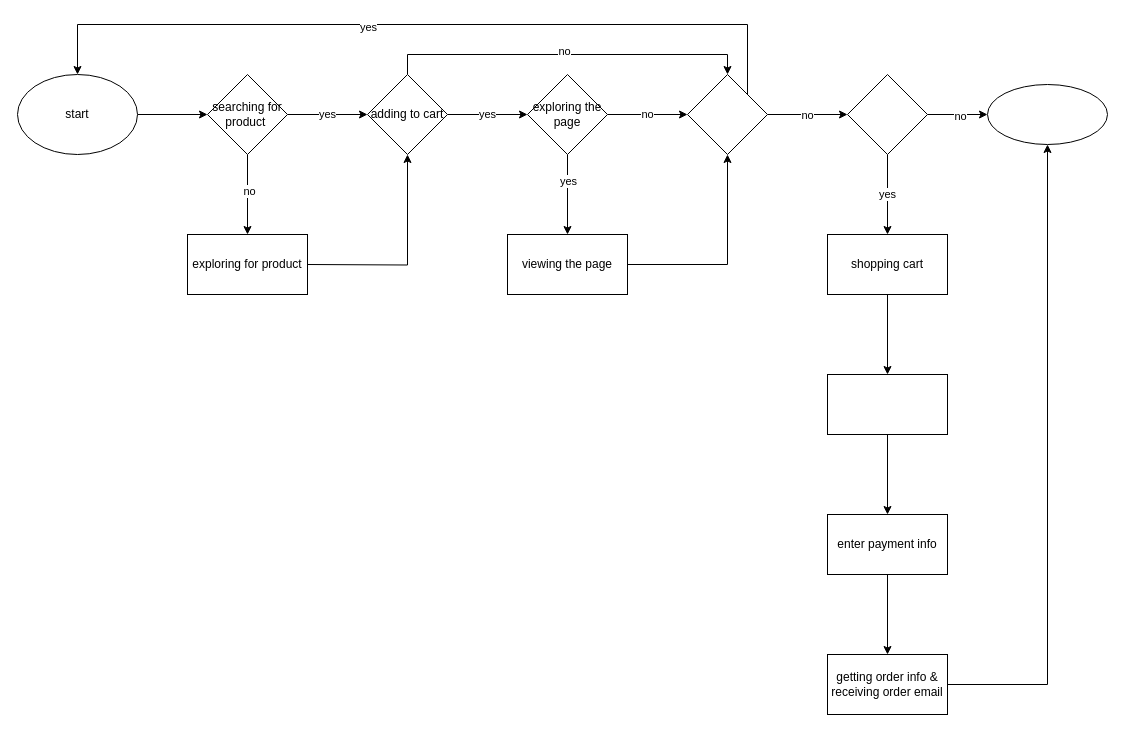
Image size: 1125x732. Some labels were removed from this diagram. Each missing label, with the box of its shape:
checkout: (846, 74, 928, 154)
continue shopping: (686, 74, 768, 154)
exit: (986, 84, 1108, 144)
payment screen: (826, 374, 948, 434)
